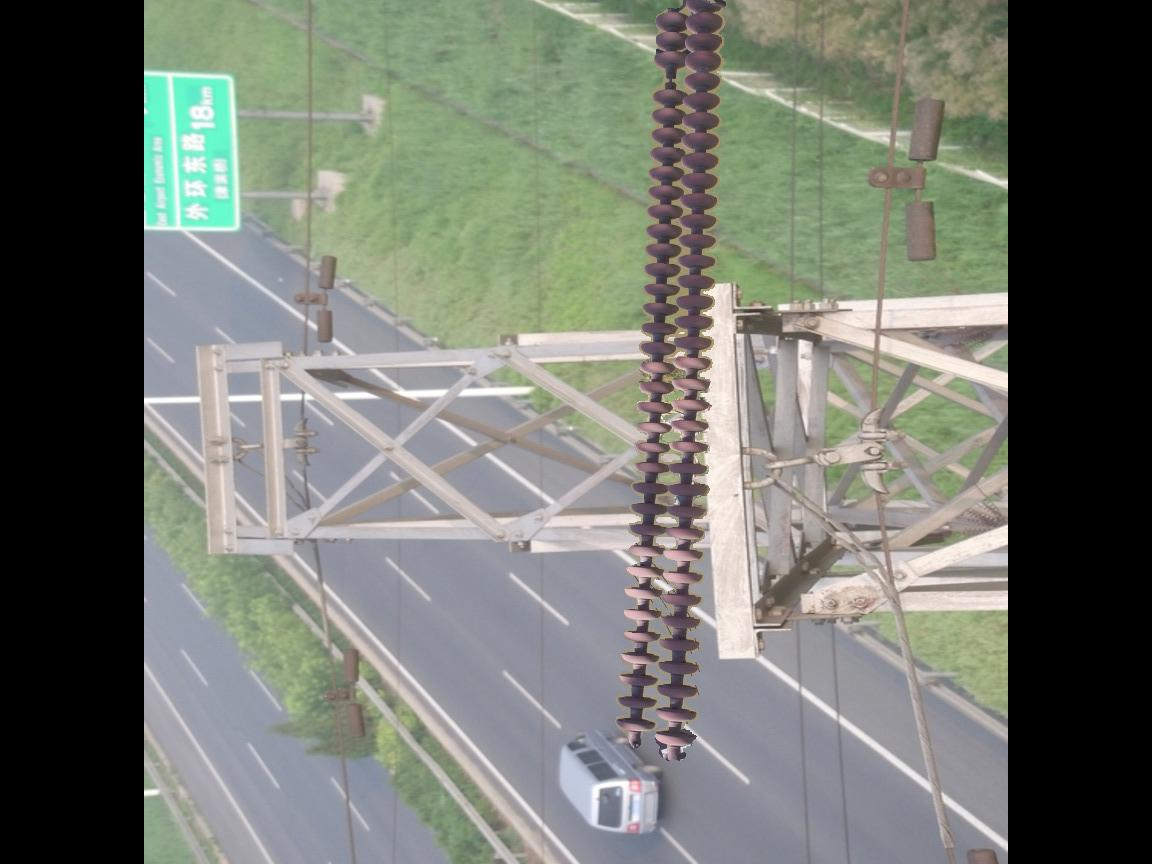insulator: (611, 1, 731, 762)
insulator_stringdrop: (647, 46, 690, 107)
